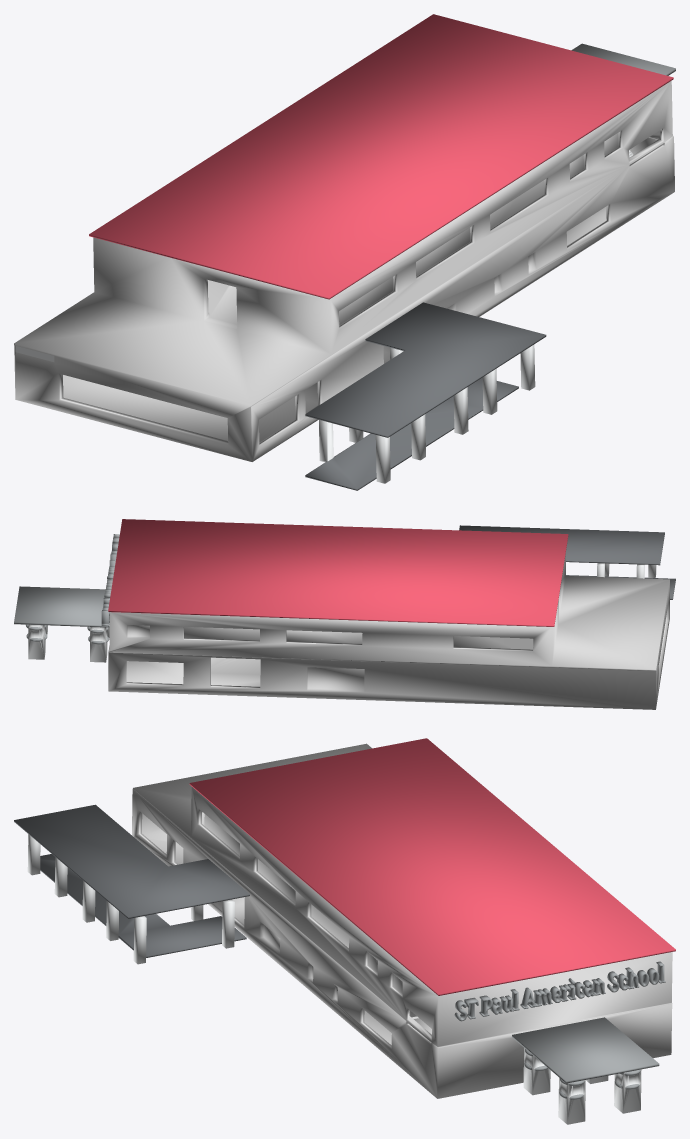
Rendered from jasonmain.glb.
The picture shows the model from 3 angles, top to bottom: view 1: azimuth 30°, elevation 25°; view 2: azimuth 150°, elevation 25°; view 3: azimuth 270°, elevation 25°; orthographic projection. The views are drawn at different scales.
Parts seen in each view (by area): view 1: obj_0; view 2: obj_0; view 3: obj_0.
Boxes of the visible parts, bbox=[...] form: obj_0: bbox=[14, 14, 675, 490]; obj_0: bbox=[14, 519, 675, 709]; obj_0: bbox=[14, 738, 675, 1124].
Bounding box in the file's own units: 877 × 133 × 714.
